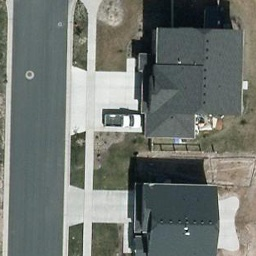car: (101, 109, 145, 131)
